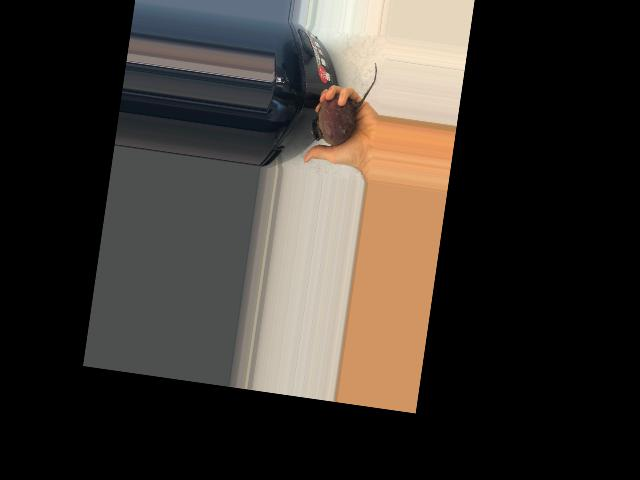beet: (309, 55, 378, 149)
